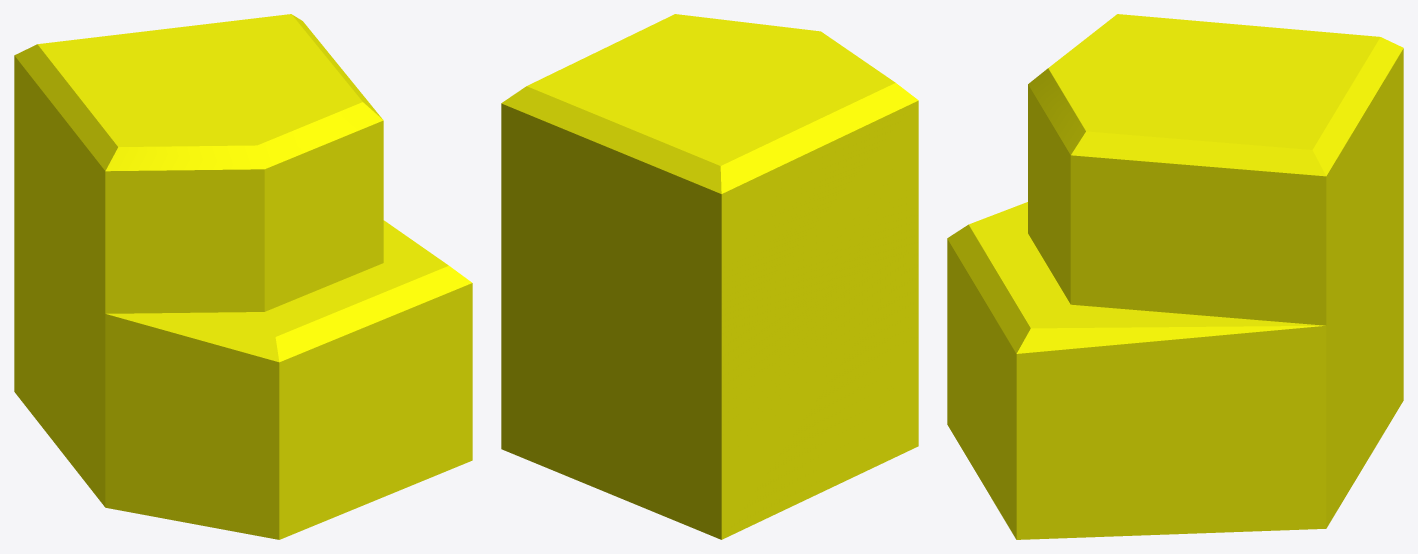
Rendered from kaykit-rock-1-c-color-1.glb.
3 views of the same model, side by side, from view 1: azimuth 30°, elevation 25°; view 2: azimuth 150°, elevation 25°; view 3: azimuth 270°, elevation 25° (orthographic). The views are drawn at different scales.
Parts seen in each view (by area): view 1: Rock_1_C_Color1; view 2: Rock_1_C_Color1; view 3: Rock_1_C_Color1.
Part boxes in pixels (<box>): Rock_1_C_Color1: <box>14,14,472,539</box>; Rock_1_C_Color1: <box>501,14,918,539</box>; Rock_1_C_Color1: <box>947,14,1403,539</box>.
Size of the model in its own units: 0.5188 by 0.5403 by 0.6051.
